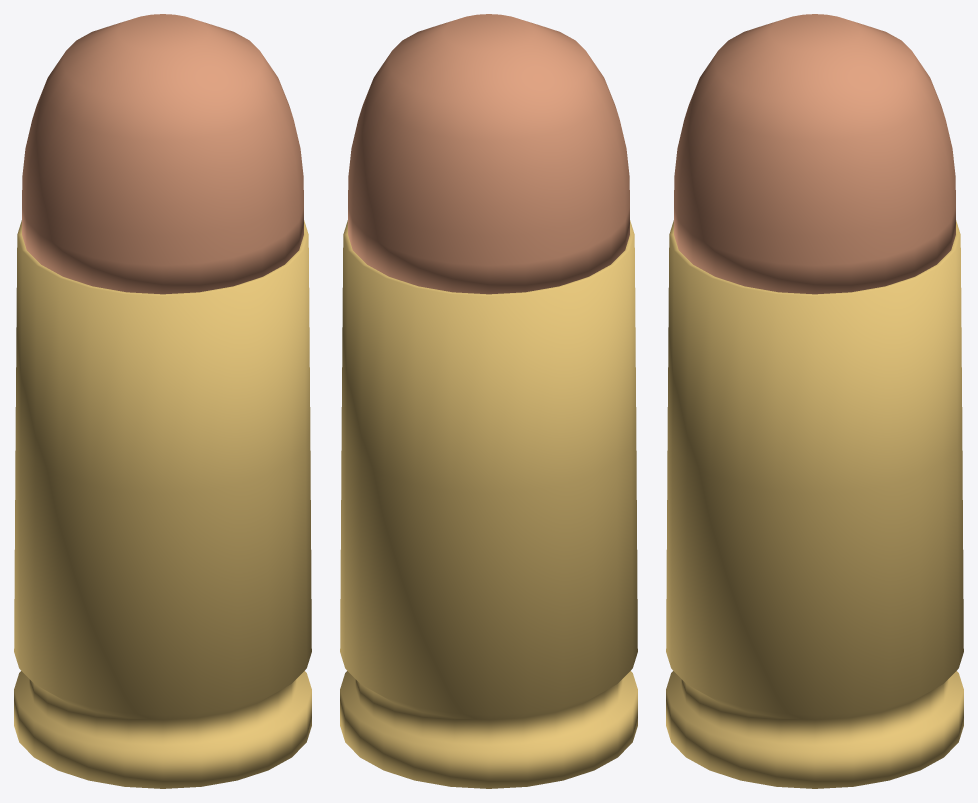
Rendered from 380_std.glb.
3 renders of one model, left to right at view 1: azimuth 30°, elevation 25°; view 2: azimuth 150°, elevation 25°; view 3: azimuth 270°, elevation 25°, orthographic.
Visible parts, largest first — view 1: vaina, bala; view 2: vaina, bala; view 3: vaina, bala.
Part boxes in pixels (x1,y1,x2,y2): vaina: (14,220,311,788); bala: (22,14,303,294); vaina: (340,220,637,788); bala: (348,14,629,294); vaina: (666,220,963,788); bala: (674,14,955,294).
Size of the model in its own units: 0.0095 by 0.0244 by 0.0095.
